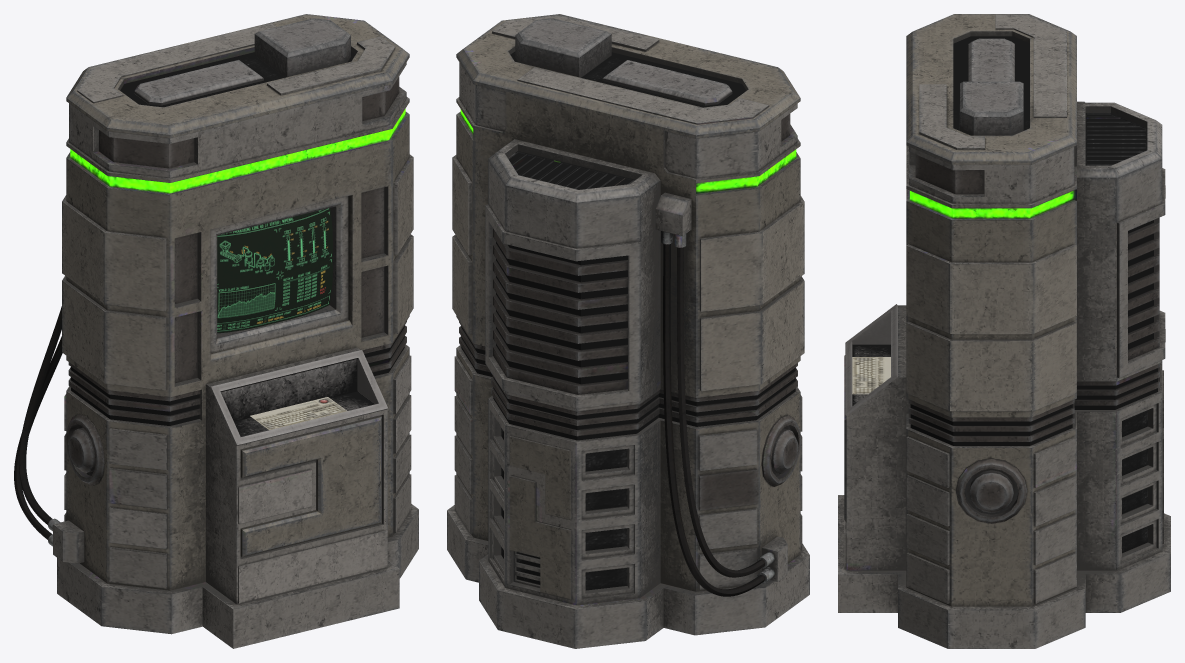
File: chad_console.gltf
3 renders of one model, left to right at view 1: azimuth 30°, elevation 25°; view 2: azimuth 150°, elevation 25°; view 3: azimuth 270°, elevation 25°, orthographic. The views are drawn at different scales.
Visible parts, largest first — view 1: console, screen, keyboard; view 2: console; view 3: console, keyboard.
Boxes of the visible parts, bbox=[...] form: console: bbox=[14, 14, 418, 648]; screen: bbox=[217, 208, 332, 333]; keyboard: bbox=[250, 397, 347, 429]; console: bbox=[447, 14, 809, 648]; console: bbox=[838, 14, 1170, 648]; keyboard: bbox=[852, 357, 890, 394].
Bounding box in the file's own units: 2.08 × 3.14 × 1.86.
Materials: 3 (3 with a texture image).
